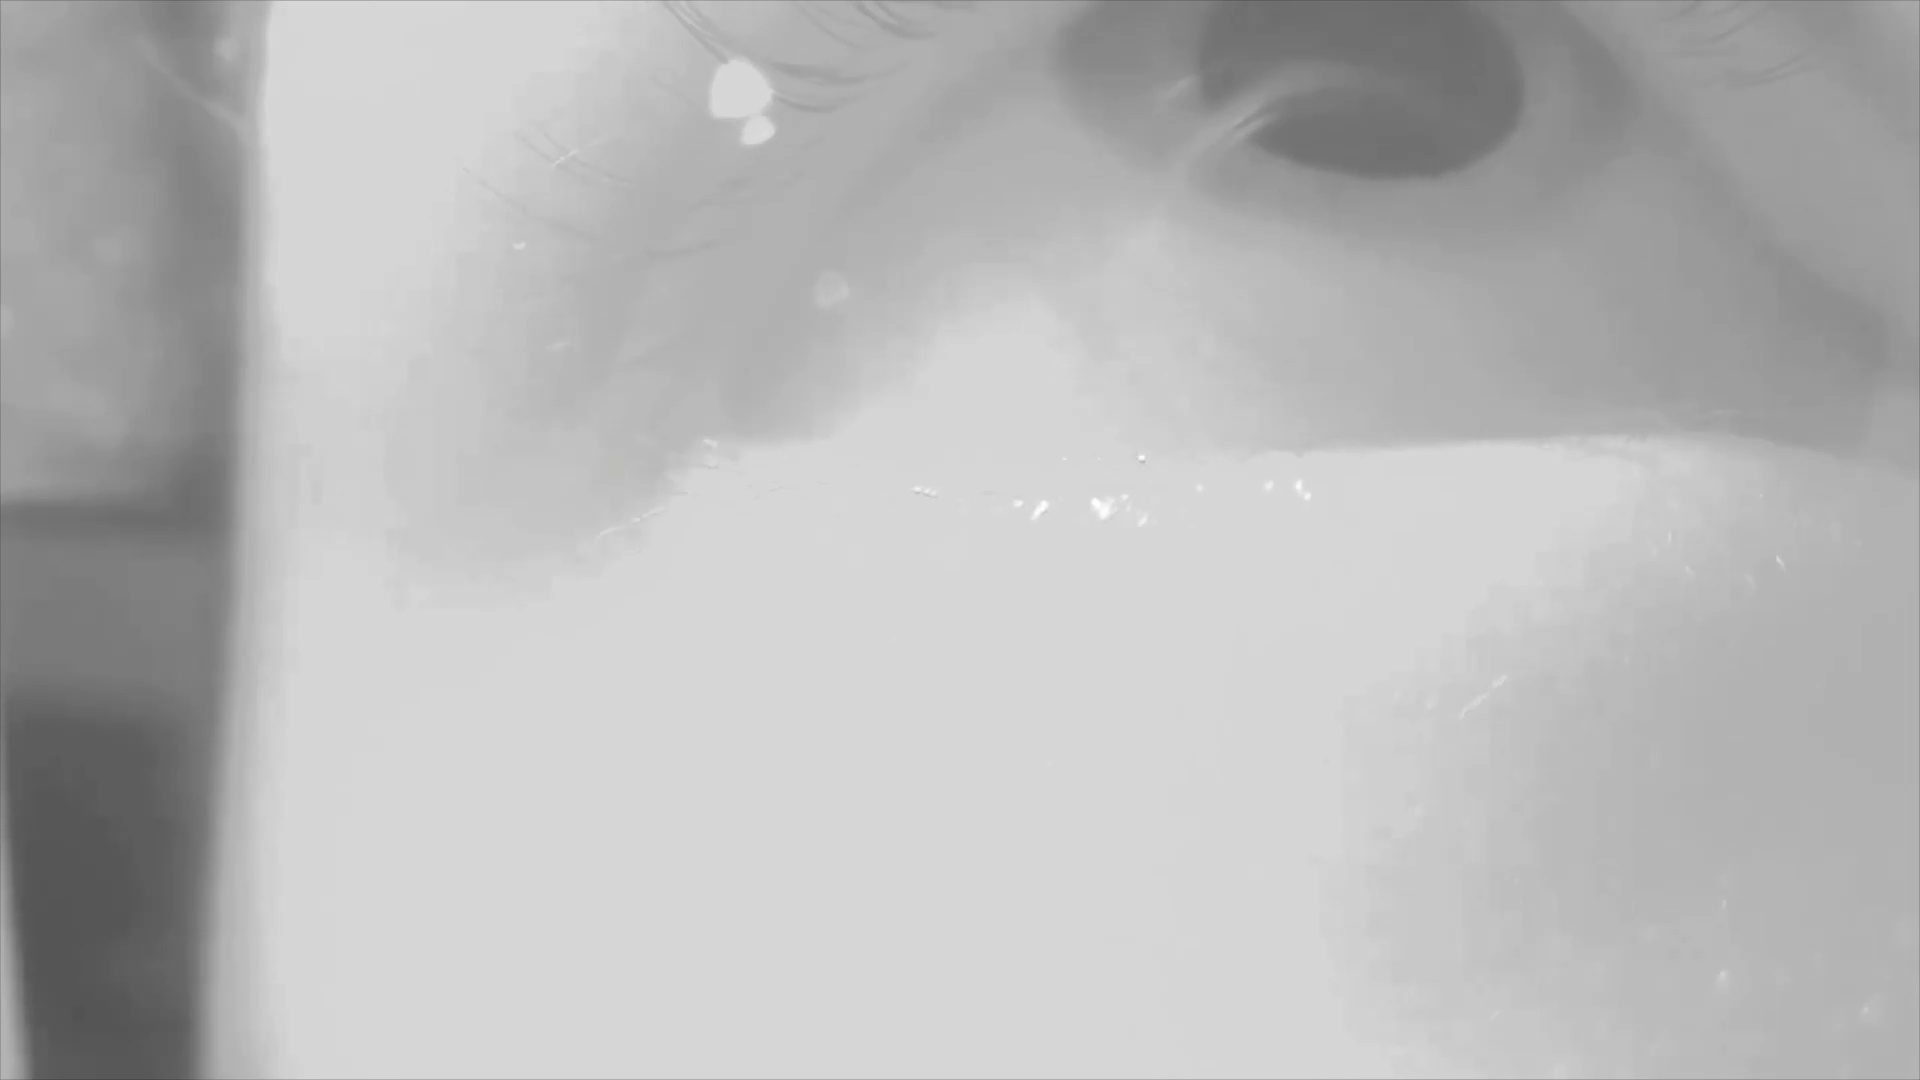pupil: (1201, 4, 1527, 180)
